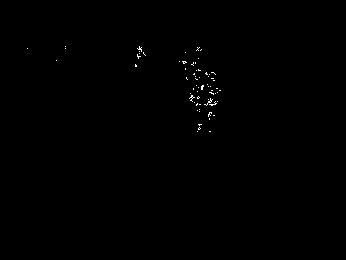person: (188, 65, 222, 135)
